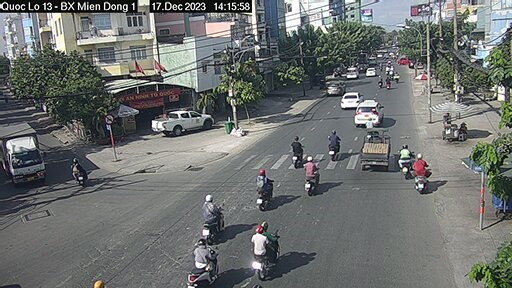car: (152, 111, 216, 134), (356, 101, 384, 125), (340, 90, 361, 107), (325, 79, 344, 97), (365, 65, 377, 80), (346, 68, 360, 79)
motorbike: (243, 226, 280, 277), (200, 190, 227, 237), (249, 163, 276, 208), (189, 243, 214, 283), (300, 158, 322, 196), (322, 127, 345, 160), (289, 134, 308, 163), (399, 145, 415, 179)
truck: (1, 123, 48, 187)
